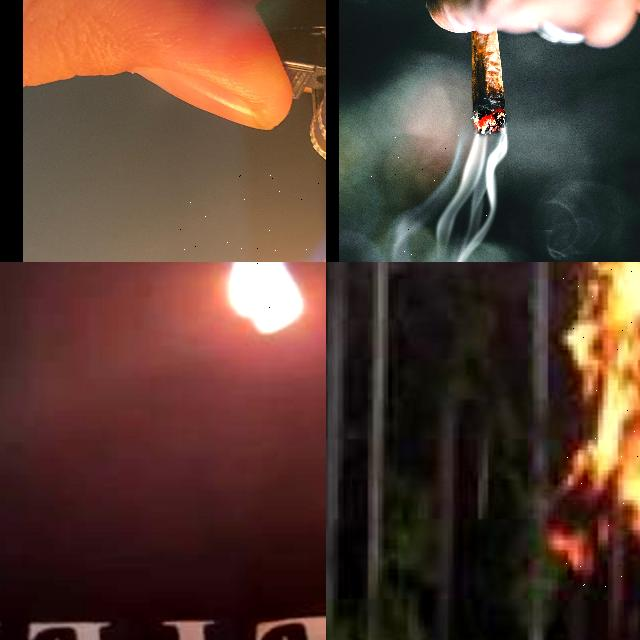fire: (548, 262, 640, 574), (228, 262, 304, 335), (471, 92, 506, 136)
smoke: (386, 134, 506, 262)
